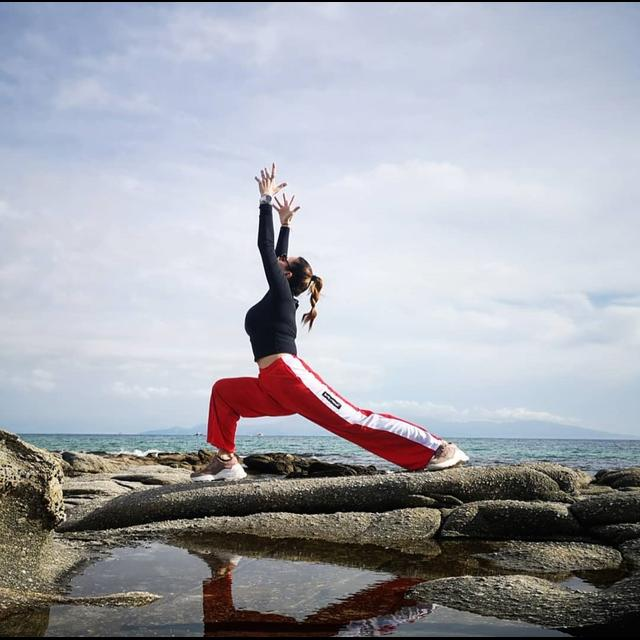Warrior_I: (179, 151, 465, 486)
